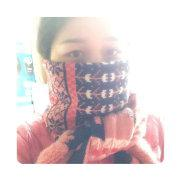OK: (45, 31, 130, 117)
